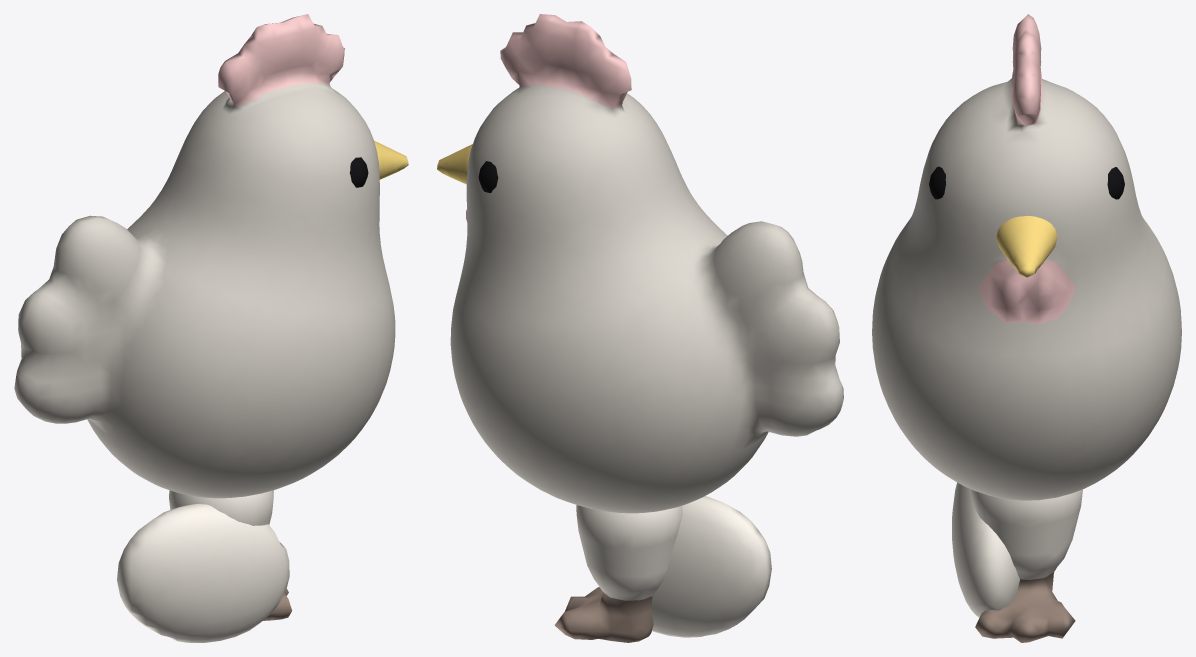
File: chicken_baby.glb
3 views of the same model, side by side, from view 1: azimuth 30°, elevation 25°; view 2: azimuth 150°, elevation 25°; view 3: azimuth 270°, elevation 25° (orthographic). The views are drawn at different scales.
Visible parts, largest first — view 1: body, wing, leg, beak; view 2: body, wing, leg, beak; view 3: body, leg, wing, beak, eye.
Boxes of the visible parts, bbox=[...] form: body: bbox=[14, 14, 395, 498]; wing: bbox=[117, 504, 289, 642]; leg: bbox=[169, 490, 292, 620]; beak: bbox=[374, 140, 408, 179]; body: bbox=[450, 14, 843, 513]; wing: bbox=[651, 496, 771, 637]; leg: bbox=[554, 505, 682, 642]; beak: bbox=[437, 144, 472, 184]; body: bbox=[872, 14, 1181, 500]; leg: bbox=[971, 489, 1082, 642]; wing: bbox=[952, 482, 1019, 617]; beak: bbox=[996, 215, 1057, 277]; eye: bbox=[929, 166, 1124, 199].
Bounding box in the file's own units: 1.34 × 1.93 × 0.8642.
